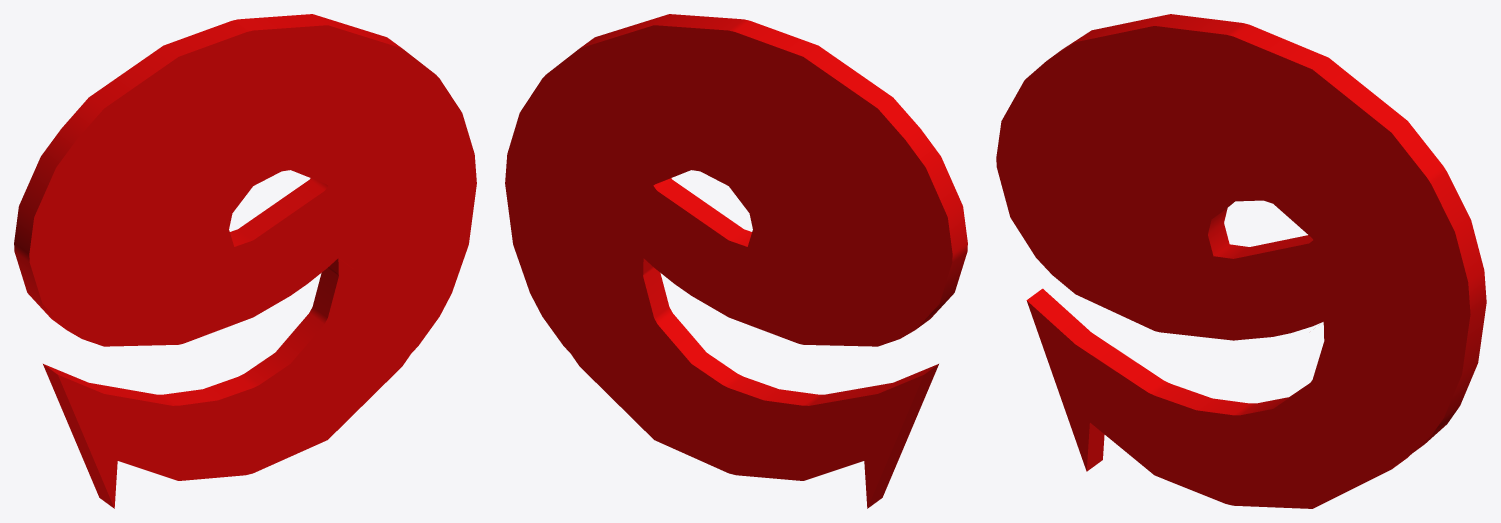
3 renders of one model, left to right at view 1: azimuth 30°, elevation 25°; view 2: azimuth 150°, elevation 25°; view 3: azimuth 330°, elevation 25°, orthographic. The views are drawn at different scales.
Parts seen in each view (by area): view 1: Trim_Char_x_1_1; view 2: Trim_Char_x_1_1; view 3: Trim_Char_x_1_1.
Part boxes in pixels (left/top/right/bottom): Trim_Char_x_1_1: left=14, top=14, right=476, bottom=508; Trim_Char_x_1_1: left=505, top=14, right=967, bottom=508; Trim_Char_x_1_1: left=996, top=14, right=1486, bottom=508.
Size of the model in its own units: 0.7845 by 0.7448 by 0.0928.
